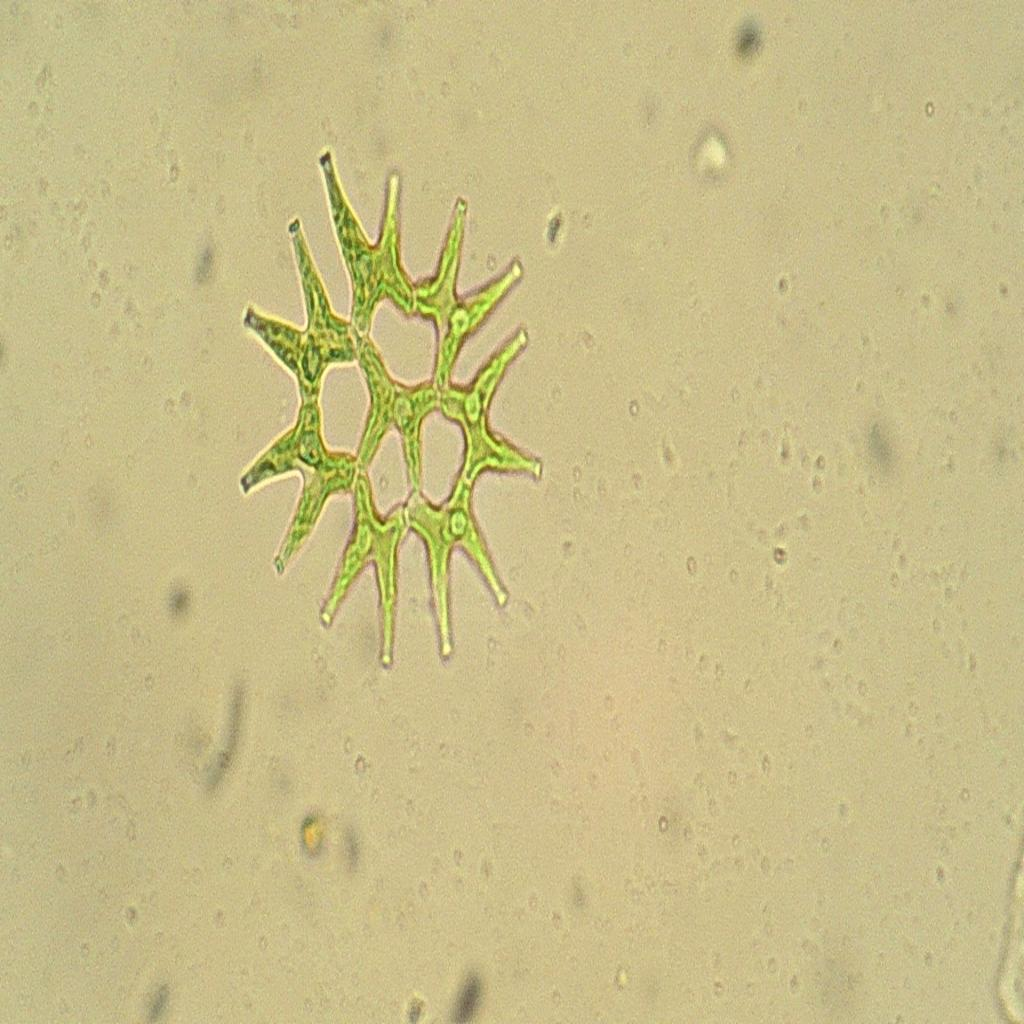Pediastrum_75T: (232, 140, 554, 676)
